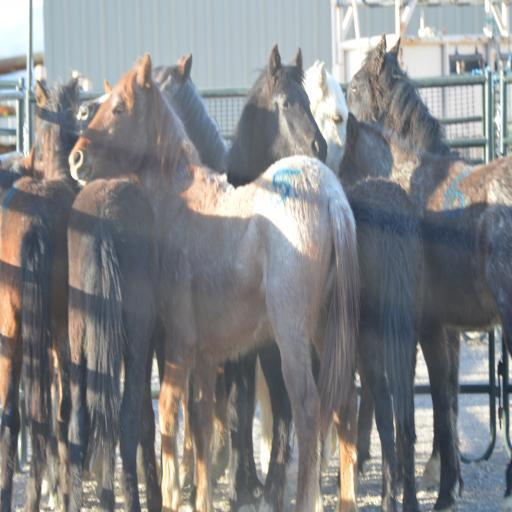horse: (0, 32, 512, 512)
